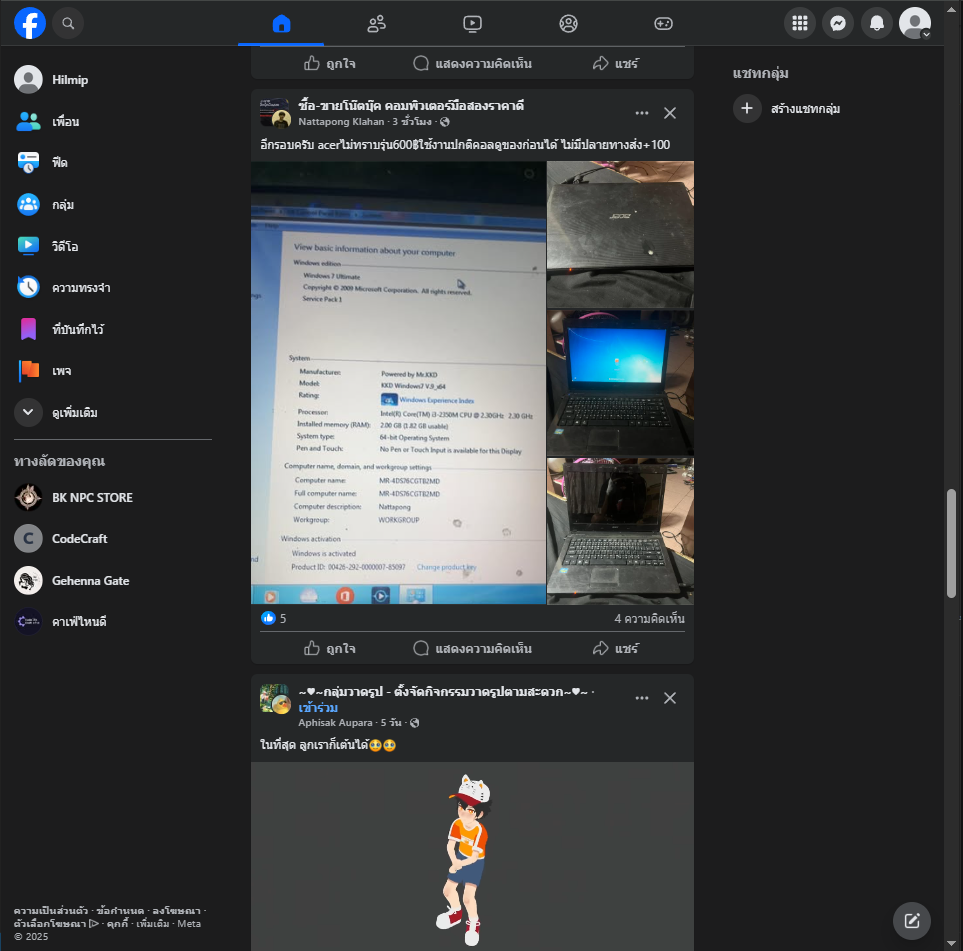topic: (248, 88, 695, 664), (248, 677, 694, 951)
